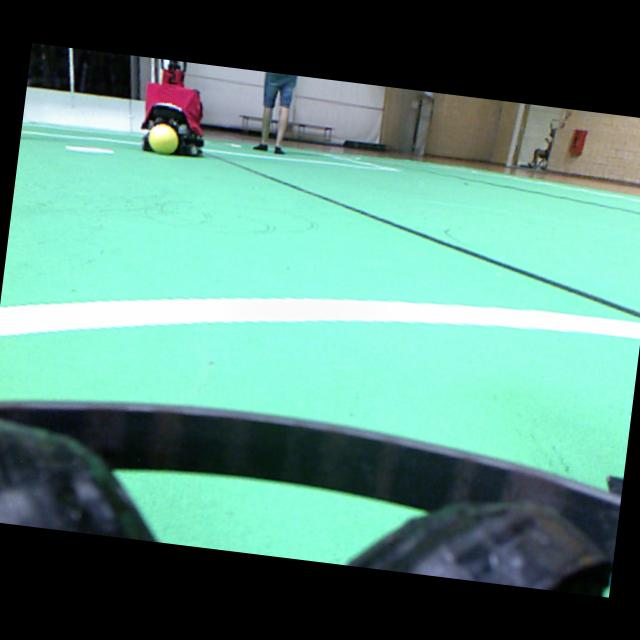ball: (148, 123, 177, 153)
